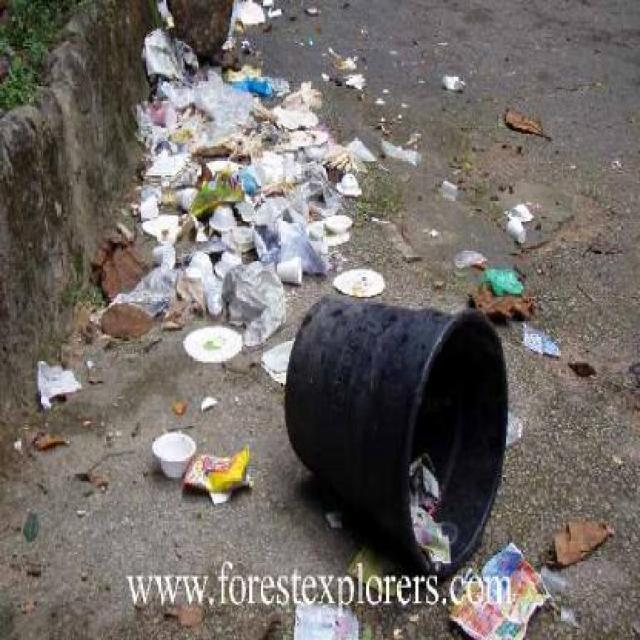garbage: (137, 13, 350, 283), (151, 429, 254, 494), (408, 455, 465, 560), (157, 288, 286, 330), (468, 266, 532, 314), (483, 546, 560, 584), (451, 603, 534, 638), (291, 599, 358, 639), (100, 296, 154, 342), (91, 231, 134, 288), (34, 351, 74, 412), (183, 328, 242, 360), (352, 137, 414, 166), (520, 314, 559, 360), (505, 106, 548, 140), (503, 198, 530, 240), (230, 0, 324, 12), (260, 348, 292, 374), (439, 75, 469, 92), (510, 412, 519, 448)
